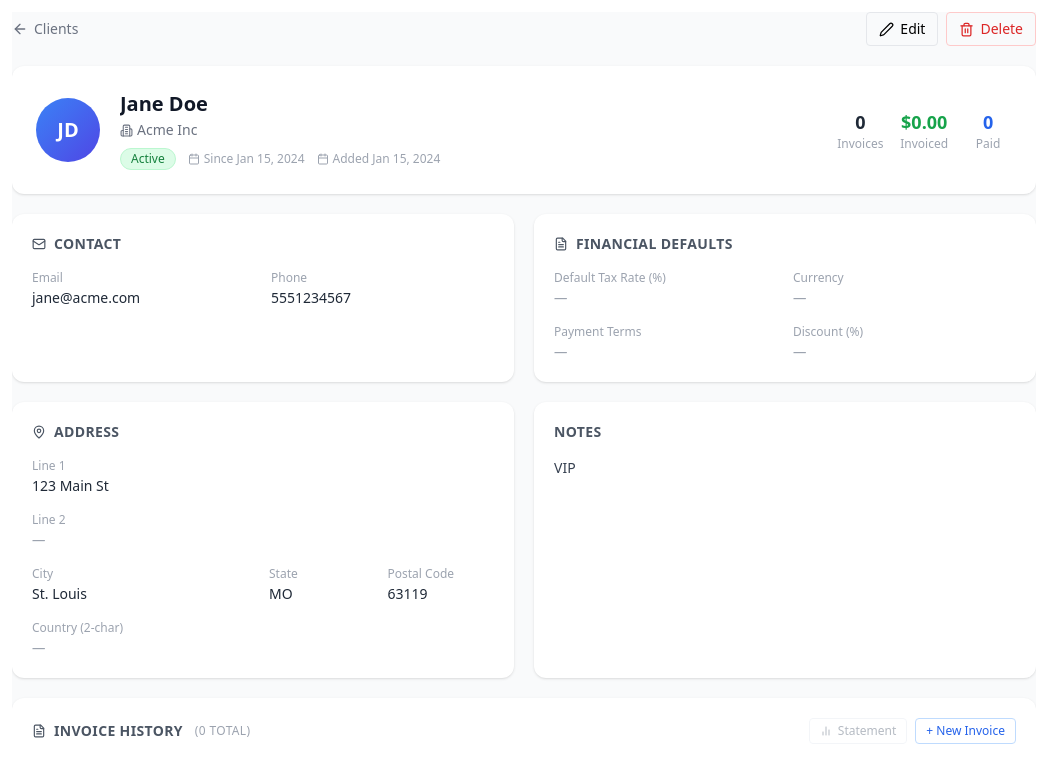
Test: ClientDetail — pre-population › restores original values when Cancel is clicked
Expected: the heading "Jane Doe" is shown, [120,90,208,117]
Click the button "Edit" at (902, 29), box [866,12,938,46]
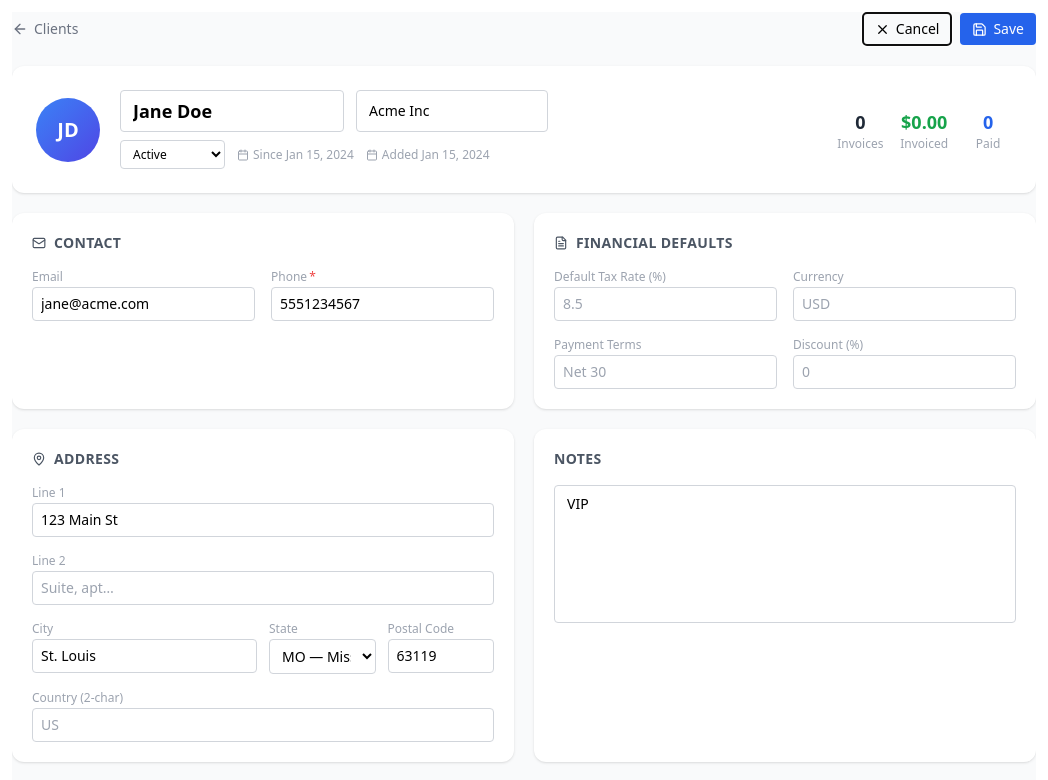
Replace the text in the 1st field showing "Jane Doe" with "Changed Name" at (232, 111), box [120,90,344,132]
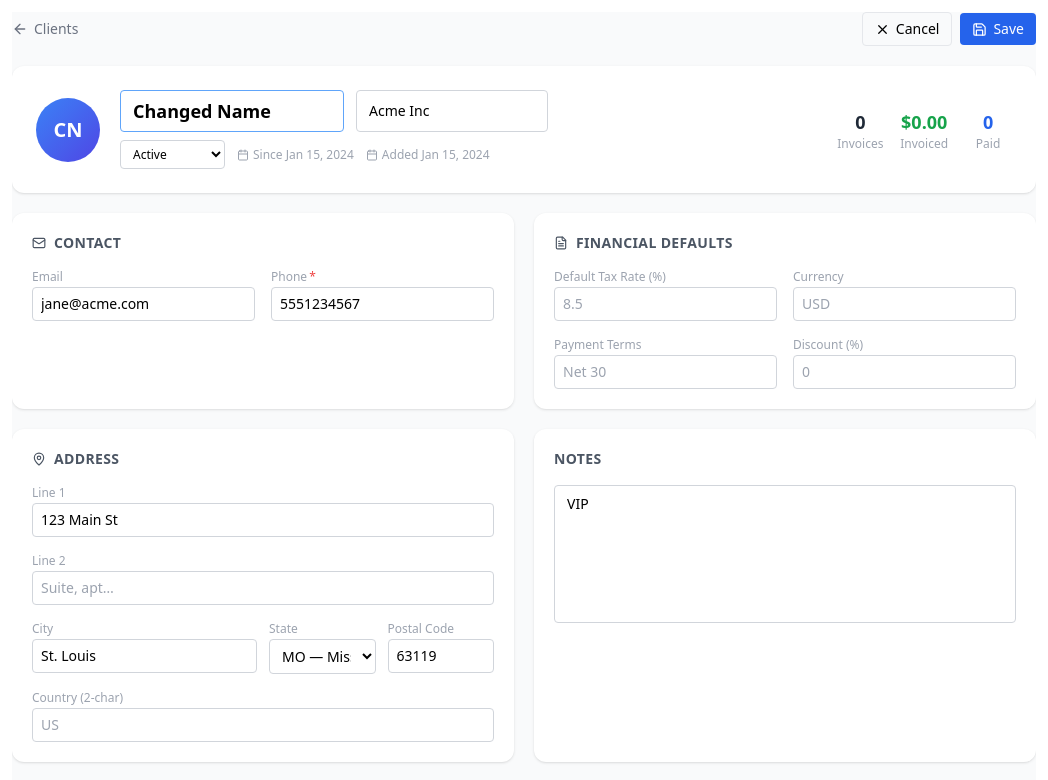
Click the button "Cancel" at (907, 29), box [862,12,952,46]
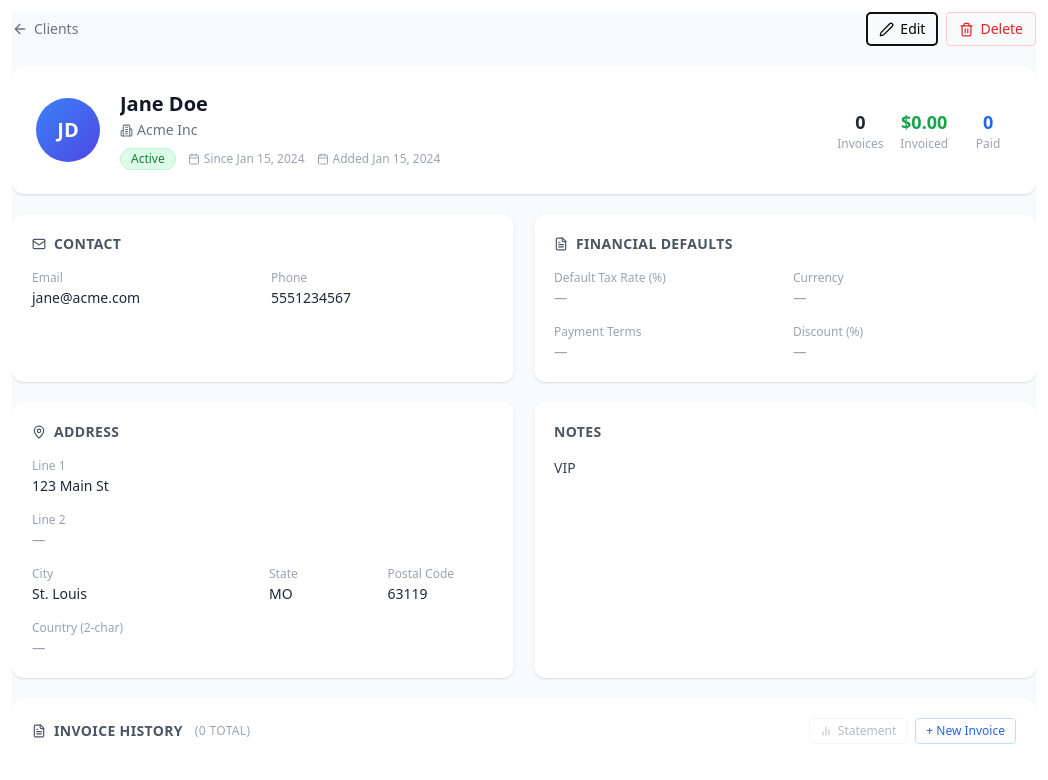
Expected: the heading "Jane Doe" is shown, [120,90,208,117]
Expected: the field showing "Changed Name" is gone
